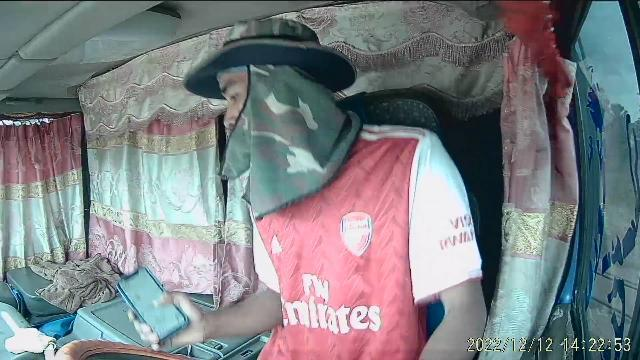PhoneUse: (116, 264, 190, 346)
